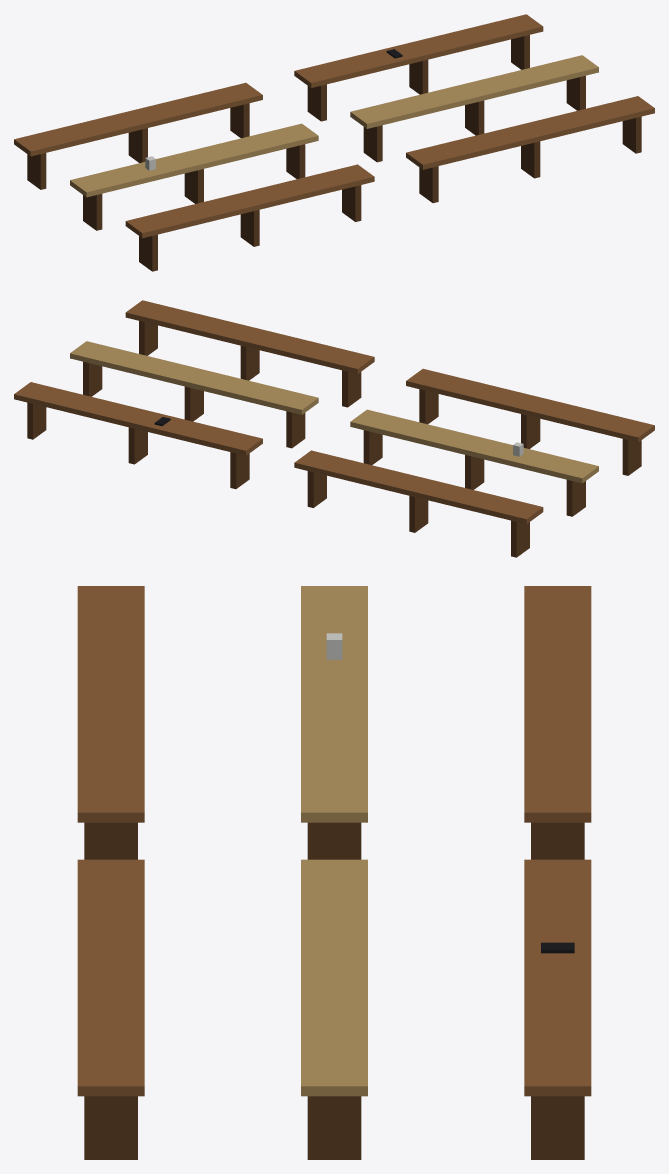
The model's file is prop_viewing-benches.glb.
The picture shows the model from 3 angles, top to bottom: view 1: azimuth 30°, elevation 25°; view 2: azimuth 150°, elevation 25°; view 3: azimuth 270°, elevation 25°; orthographic projection. The views are drawn at different scales.
Parts seen in each view (by area): view 1: body; view 2: body; view 3: body.
Boxes of the visible parts, x1,y1,x2,y2 form: body: (14, 14, 654, 271); body: (14, 300, 654, 557); body: (77, 586, 591, 1159).
Size of the model in its own units: 5.3 by 0.52 by 2.3.
